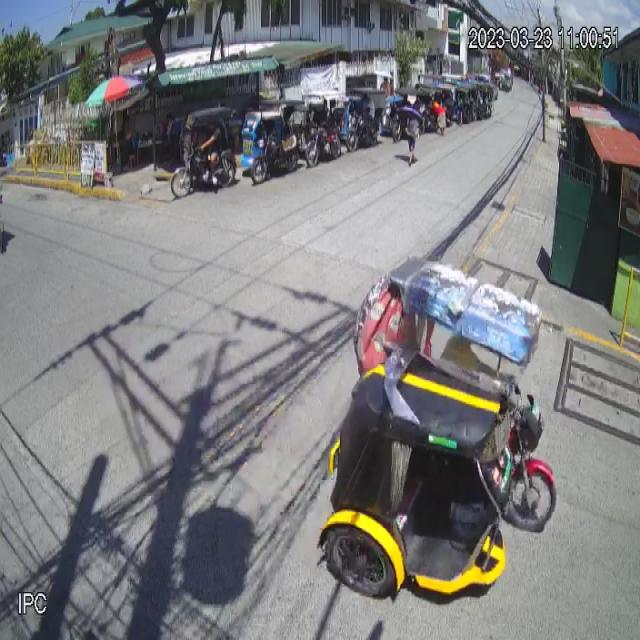Tricycle: (316, 255, 558, 601)
